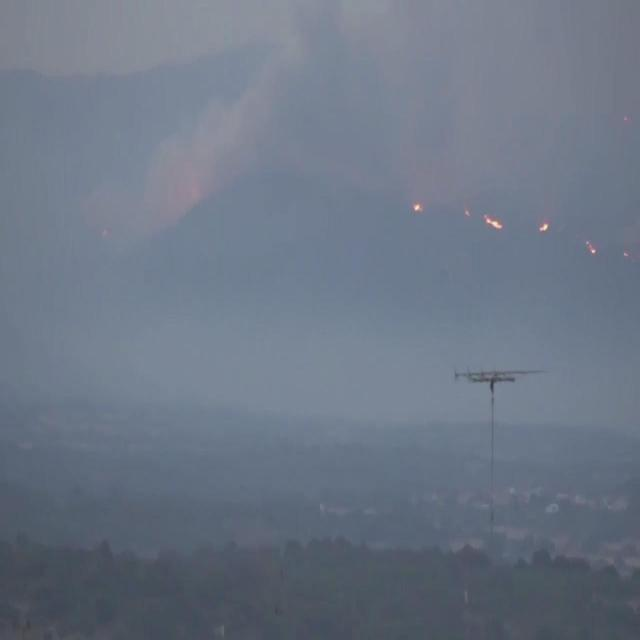Fire: (484, 212, 502, 231), (586, 240, 597, 256), (538, 218, 548, 234), (411, 198, 421, 210)
